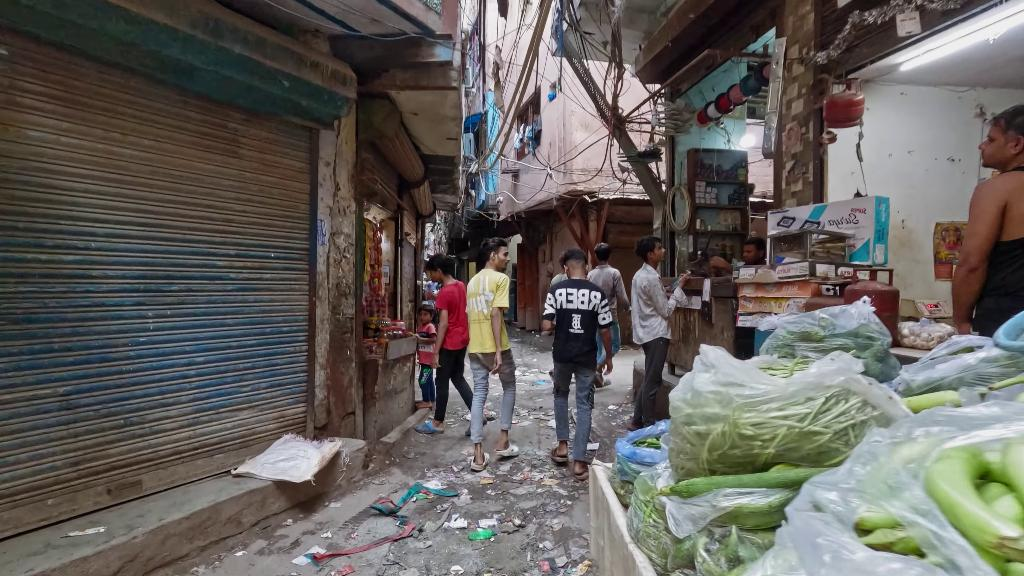garbage: (467, 529, 496, 541), (448, 515, 468, 530), (422, 480, 447, 491), (478, 518, 499, 529), (540, 478, 560, 486), (585, 441, 599, 452), (449, 564, 464, 574)
